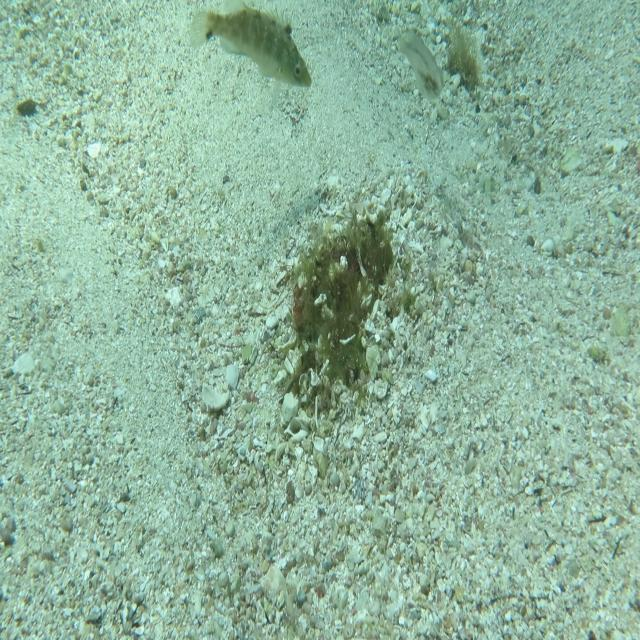CHASE_FLEE: (188, 0, 314, 90)
female: (396, 27, 445, 102)
nest: (272, 175, 417, 412)
